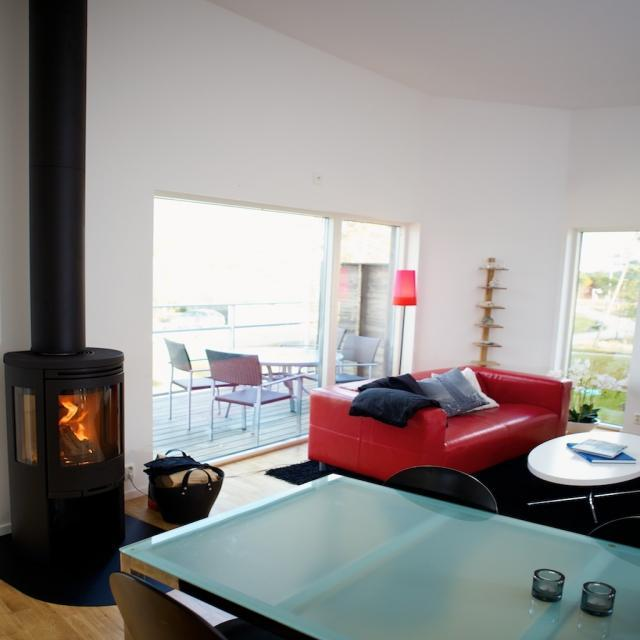Fire: (51, 376, 112, 469)
